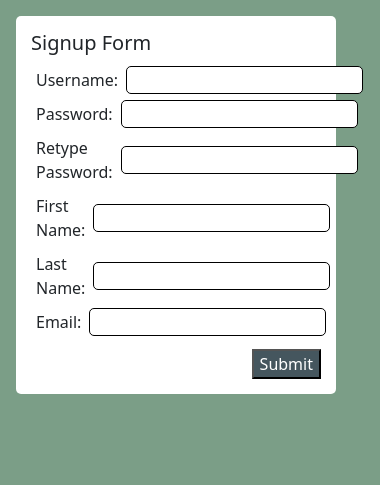
Scenario: displays error message on signup failure
The width and height of the screenshot is (380, 485).
Type "testuser2" into the field labelled "Username:" at (245, 80), box [126, 66, 363, 94]
Type "password" into the password field labelled "Password:" at (239, 114), box [121, 100, 358, 128]
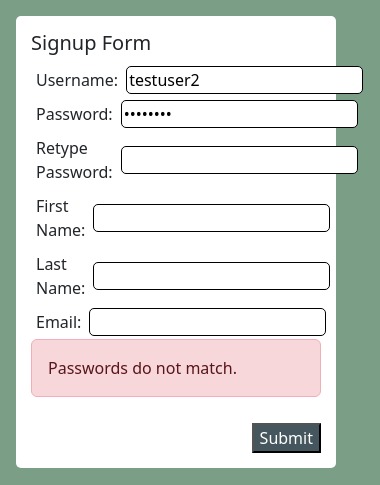
Type "password" into the password field labelled "Retype Password:" at (239, 160), box [121, 146, 358, 174]
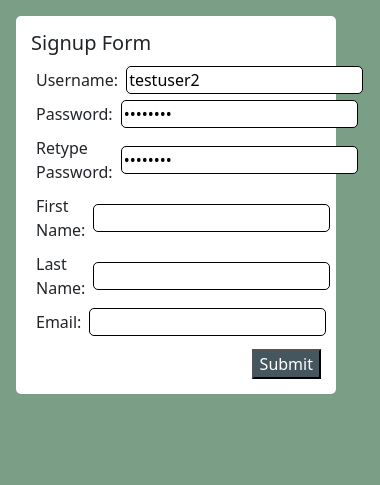
Type "Test" into the field labelled "First Name:" at (212, 218), box [93, 204, 330, 232]
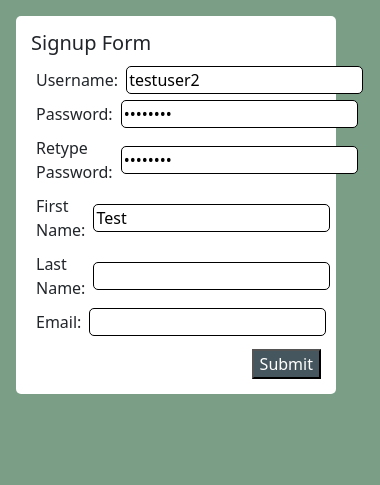
Type "User" into the field labelled "Last Name:" at (212, 276), box [93, 262, 330, 290]
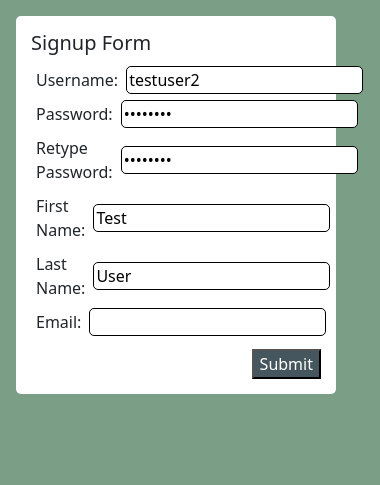
Type "testuser@test.com" into the field labelled "Email:" at (208, 322), box [89, 308, 326, 336]
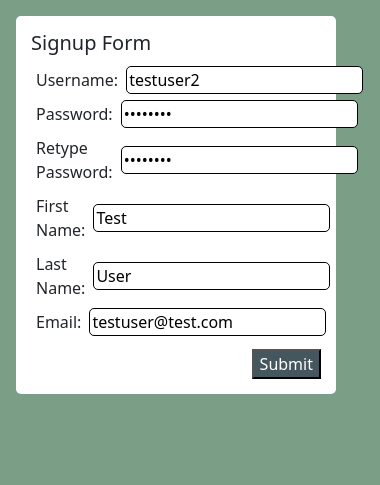
Click the button "Submit" at (286, 364), box [252, 349, 321, 379]
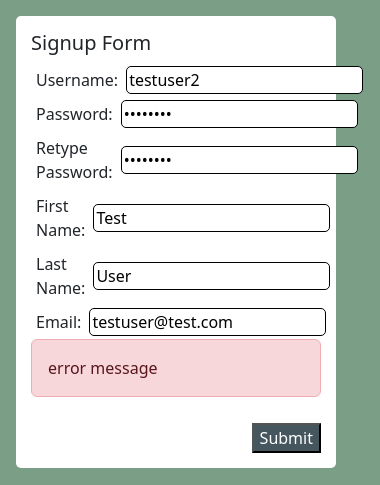
Expected: the text "error message" is shown, [31, 339, 321, 397]
